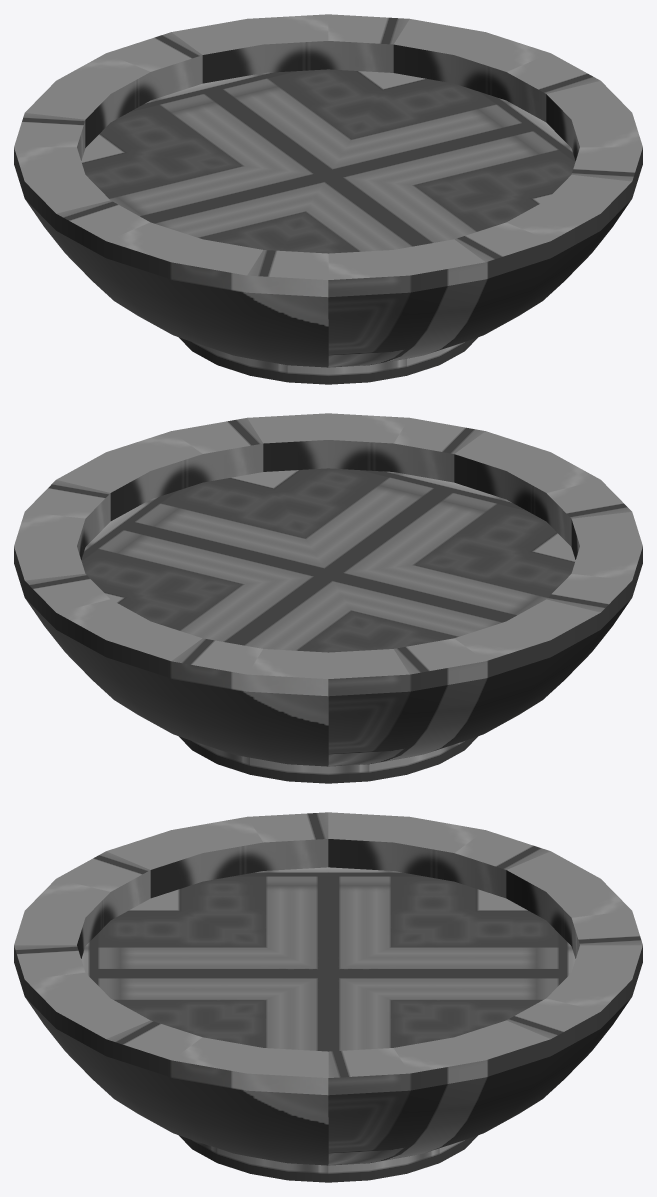
The model's file is libra_engine_s1_1.obj.
3 views of the same model, one above another, from view 1: azimuth 30°, elevation 25°; view 2: azimuth 150°, elevation 25°; view 3: azimuth 270°, elevation 25° (orthographic).
Parts seen in each view (by area): view 1: libra_engine_s1_1; view 2: libra_engine_s1_1; view 3: libra_engine_s1_1.
Part boxes in pixels (<box>): libra_engine_s1_1: <box>14,14,642,384</box>; libra_engine_s1_1: <box>14,413,642,783</box>; libra_engine_s1_1: <box>14,812,642,1182</box>.
Size of the model in its own units: 1.25 by 0.375 by 1.25.
